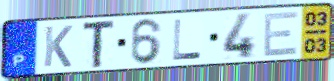4: (221, 11, 258, 60)
6: (129, 17, 163, 67)
E: (261, 9, 300, 58)
K: (42, 24, 74, 69)
L: (172, 18, 204, 62)
T: (81, 18, 118, 70)
